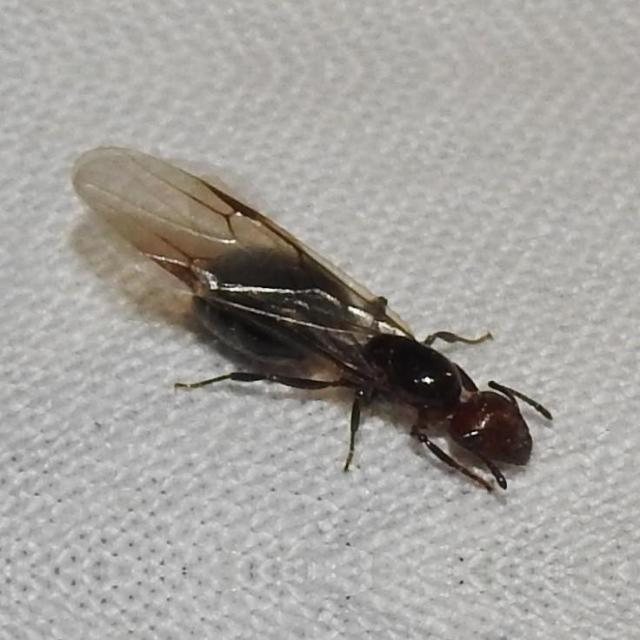Crematogaster: (84, 140, 544, 500)
